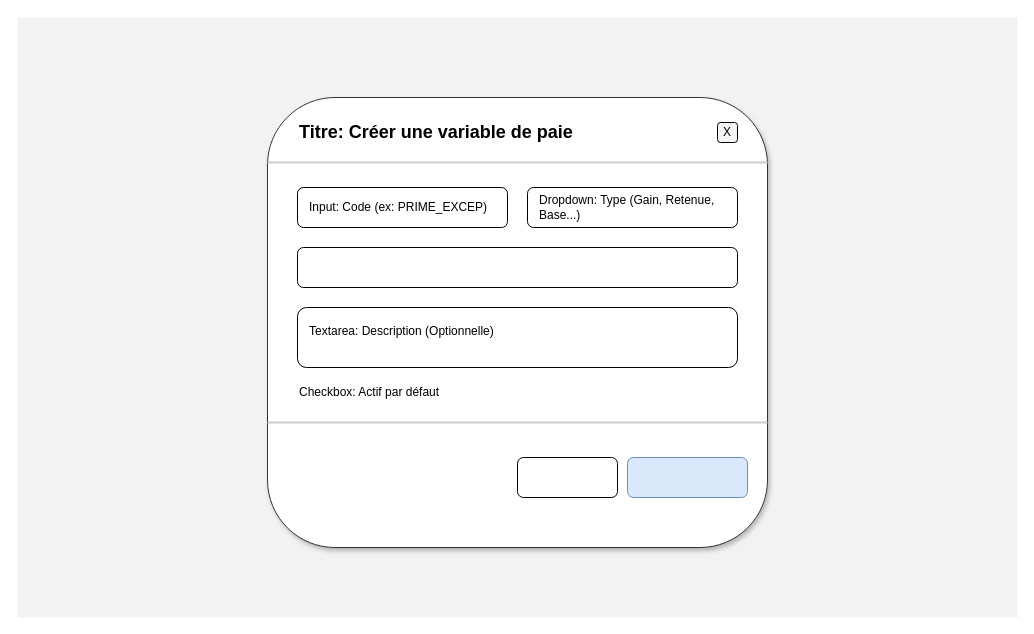
This 1034x634 diagram has some shape labels left out. Each missing label, with the centre of its shape:
Bouton: Annuler: (x=567, y=477)
Bouton: Sauvegarder: (x=687, y=477)
Input: Libellé complet (ex: Prime Exceptionnelle): (x=517, y=267)
